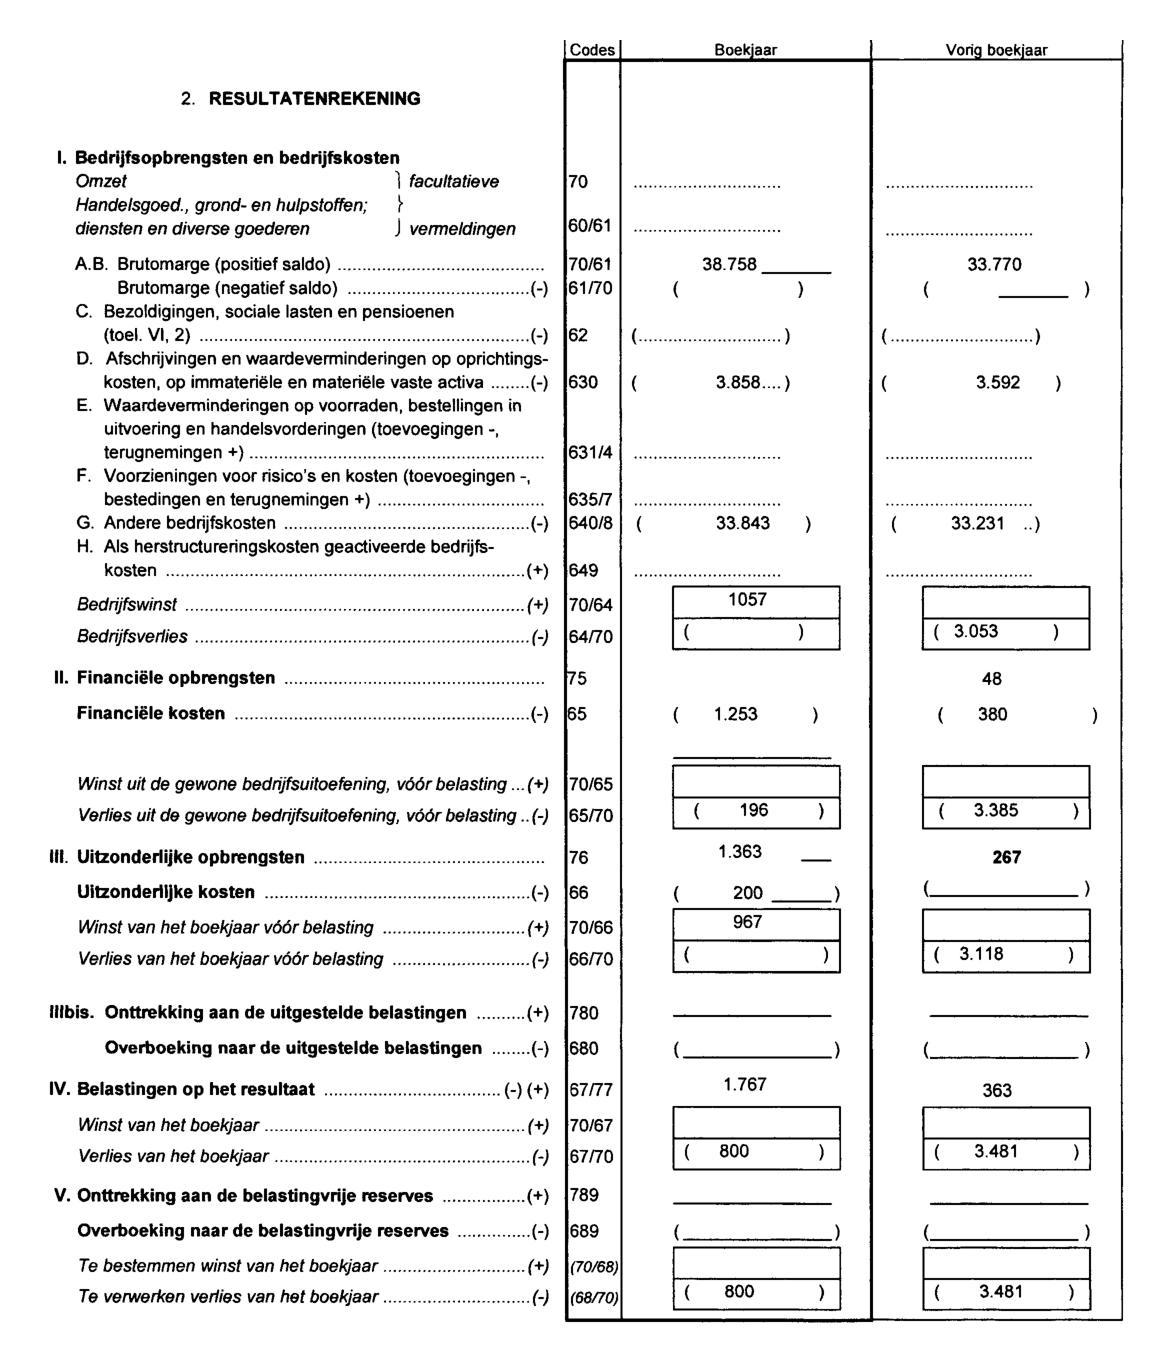table: (35, 33, 1123, 1320)
table column: (41, 37, 564, 1323), (871, 35, 1124, 1321), (621, 35, 874, 1321), (562, 37, 619, 1323)
table column header: (51, 37, 1119, 60)
table row: (47, 62, 1123, 138), (48, 397, 1125, 462), (45, 973, 1122, 1029), (49, 344, 1125, 395), (45, 462, 1122, 512), (47, 193, 1123, 242), (47, 301, 1124, 344), (45, 536, 1122, 579), (45, 618, 1122, 659), (44, 578, 1121, 619), (47, 1028, 1124, 1068), (44, 659, 1121, 695), (45, 695, 1122, 732), (47, 730, 1123, 766), (47, 795, 1123, 832), (45, 833, 1122, 869), (47, 869, 1123, 905), (45, 1211, 1122, 1246), (45, 1246, 1122, 1280), (47, 1280, 1123, 1315), (47, 1140, 1124, 1173), (44, 241, 1121, 274), (45, 906, 1122, 940), (47, 940, 1123, 973), (47, 1070, 1123, 1104), (47, 1105, 1123, 1139), (47, 1176, 1123, 1210), (47, 137, 1123, 167), (47, 764, 1123, 794), (47, 167, 1124, 193), (45, 274, 1122, 300), (45, 512, 1122, 535), (45, 38, 1122, 60)
